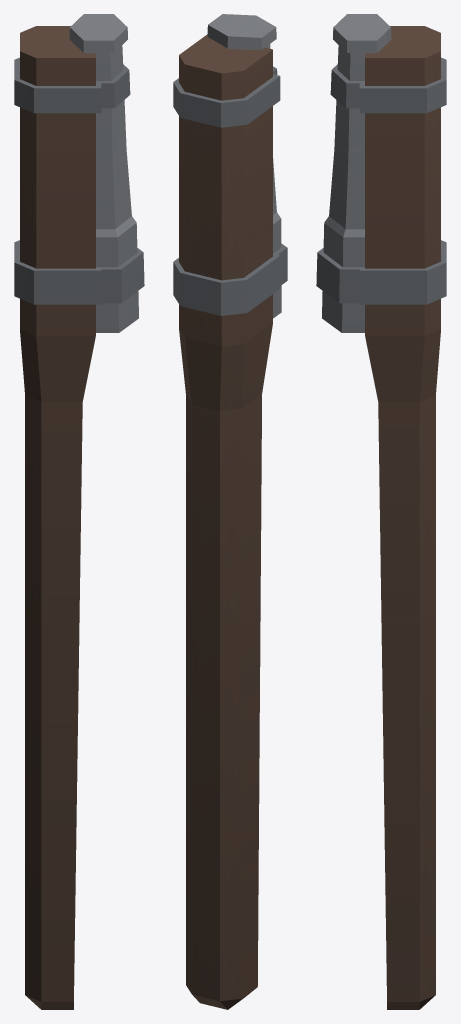
The model's file is Handgun.fbx.
3 renders of one model, left to right at view 1: azimuth 90°, elevation 25°; view 2: azimuth 150°, elevation 25°; view 3: azimuth 270°, elevation 25°, orthographic.
Visible parts, largest first — view 1: handgun; view 2: handgun; view 3: handgun.
Boxes of the visible parts, left/top/right/bottom form: handgun: left=14, top=14, right=144, bottom=1009; handgun: left=173, top=14, right=287, bottom=1009; handgun: left=316, top=14, right=446, bottom=1009.
Bounding box in the file's own units: 0.0807 × 0.9999 × 0.1208.
1 material, 1 textured.
